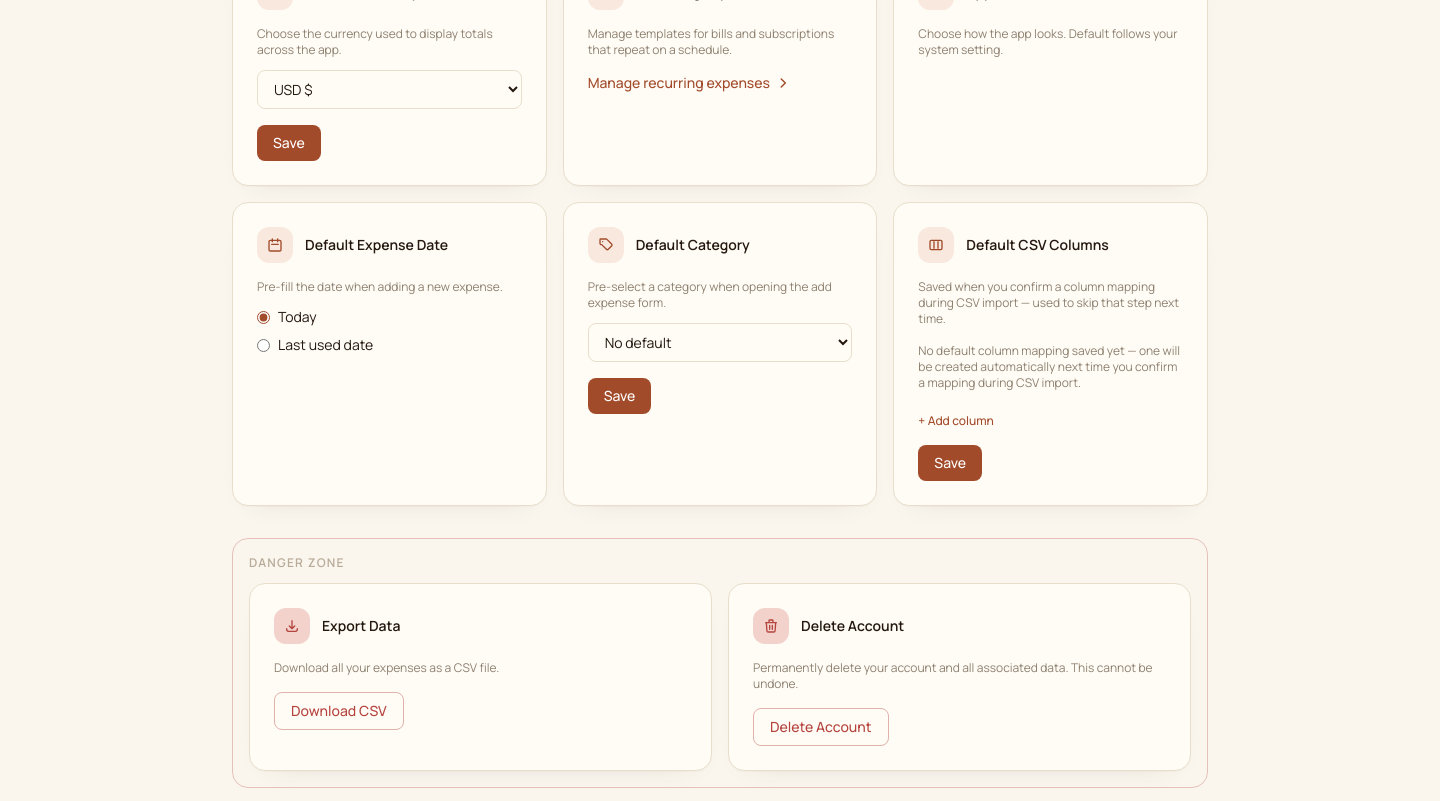
Scenario: Settings page › shows checkmark and saved text after successful category save
The width and height of the screenshot is (1440, 801).
(page scrolled)
Click the button "Save" below "Default Category" at (620, 396), box [588,378,651,414]
(page scrolled)
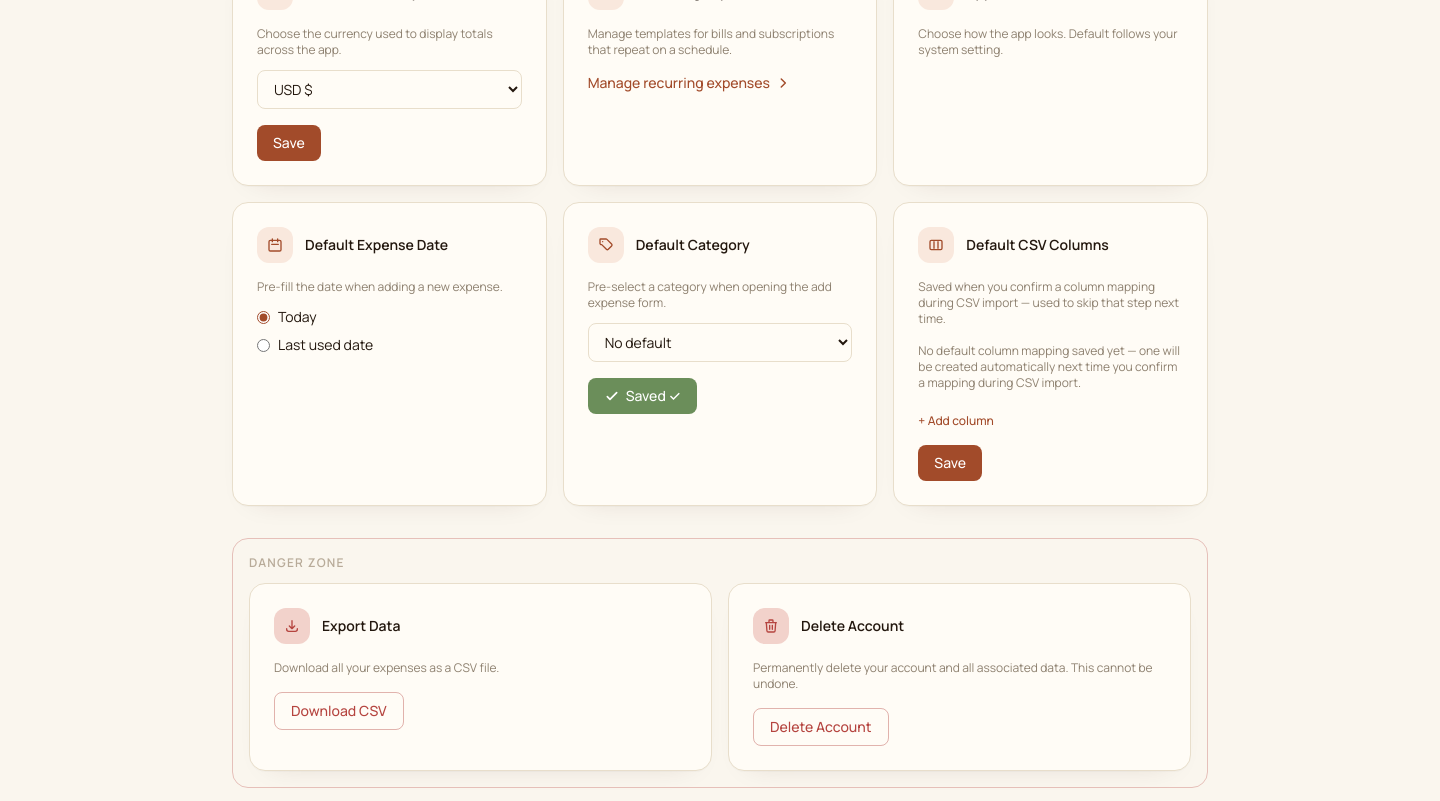
Check: the button "Saved ✓" is shown, box [588,378,697,414]
